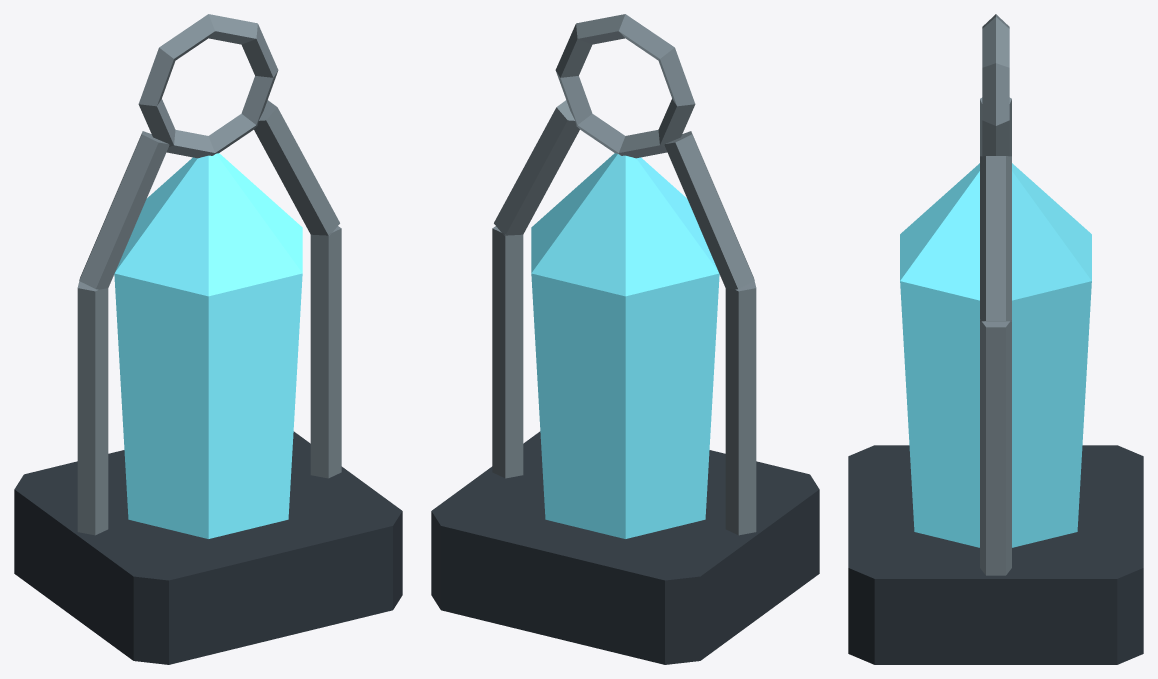
The model's file is frost_lamp.glb.
The picture shows the model from 3 angles, left to right: view 1: azimuth 30°, elevation 25°; view 2: azimuth 150°, elevation 25°; view 3: azimuth 270°, elevation 25°; orthographic projection.
Visible parts, largest first — view 1: geometry, light; view 2: geometry, light; view 3: geometry, light.
Boxes of the visible parts, x1,y1,x2,y2 form: geometry: [14, 14, 402, 664]; light: [114, 153, 302, 538]; geometry: [431, 14, 819, 664]; light: [531, 153, 719, 538]; geometry: [848, 14, 1143, 664]; light: [900, 163, 1091, 547].
Size of the model in its own units: 0.3 by 0.608 by 0.28.
